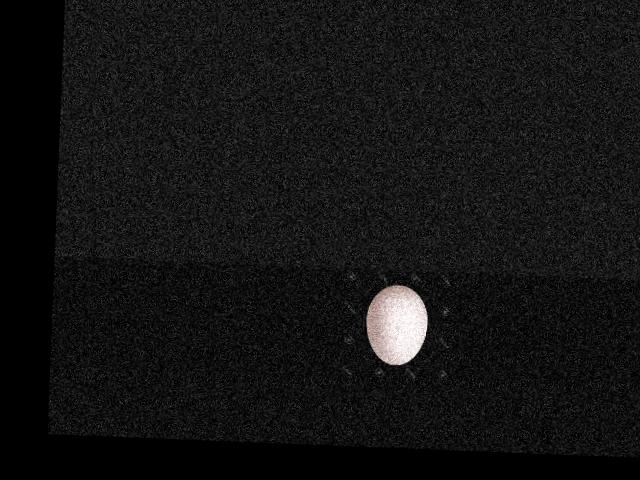egg: (366, 284, 429, 365)
